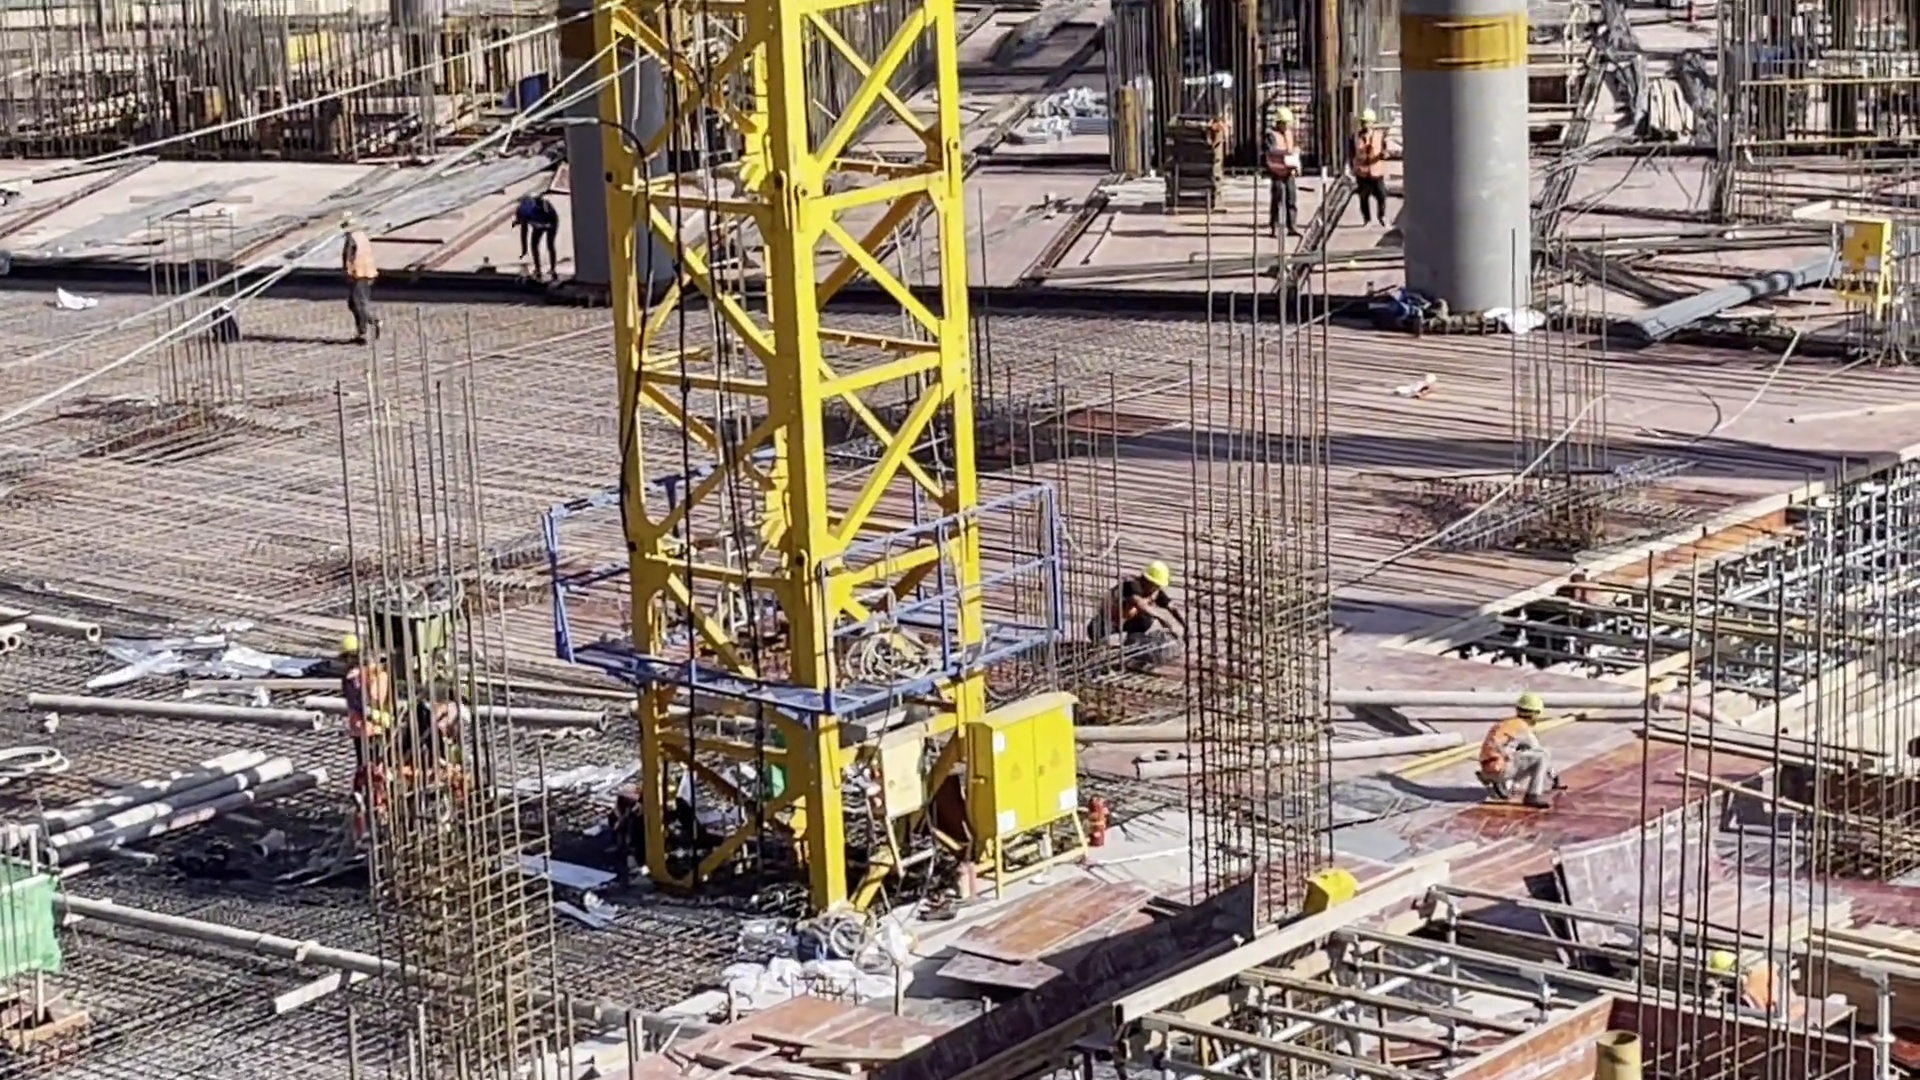ebox: (967, 694, 1088, 881), (875, 718, 941, 875), (1831, 213, 1896, 340), (1295, 866, 1359, 914)
helmet: (1143, 556, 1174, 588), (336, 629, 362, 651), (1270, 106, 1297, 124), (1358, 109, 1381, 127)
person: (1088, 554, 1186, 653), (337, 631, 397, 790), (1476, 692, 1551, 813), (1710, 948, 1807, 1033), (338, 215, 384, 373), (1261, 104, 1305, 240), (512, 186, 566, 286), (1347, 110, 1390, 225)
rebar: (1601, 232, 1836, 354)
vest: (1482, 718, 1533, 788), (1735, 965, 1790, 1024), (1351, 126, 1389, 190), (342, 234, 378, 284), (1264, 126, 1297, 181)
